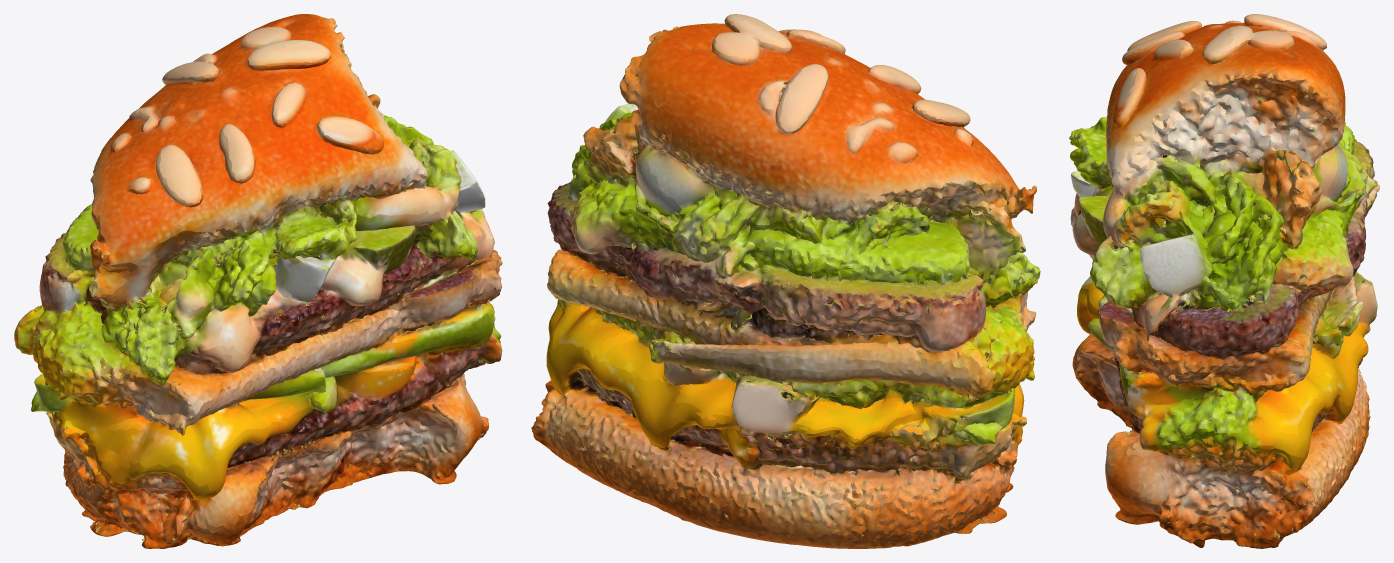
The model's file is burger-3.glb.
The picture shows the model from 3 angles, left to right: view 1: azimuth 30°, elevation 25°; view 2: azimuth 150°, elevation 25°; view 3: azimuth 270°, elevation 25°; orthographic projection. The views are drawn at different scales.
Visible parts, largest first — view 1: geometry_0; view 2: geometry_0; view 3: geometry_0.
Boxes of the visible parts, bbox=[...] form: geometry_0: bbox=[14, 14, 502, 548]; geometry_0: bbox=[531, 14, 1040, 548]; geometry_0: bbox=[1069, 14, 1379, 548].
Bounding box in the file's own units: 0.1343 × 0.13 × 0.0821.
Materials: 1 (1 with a texture image).
